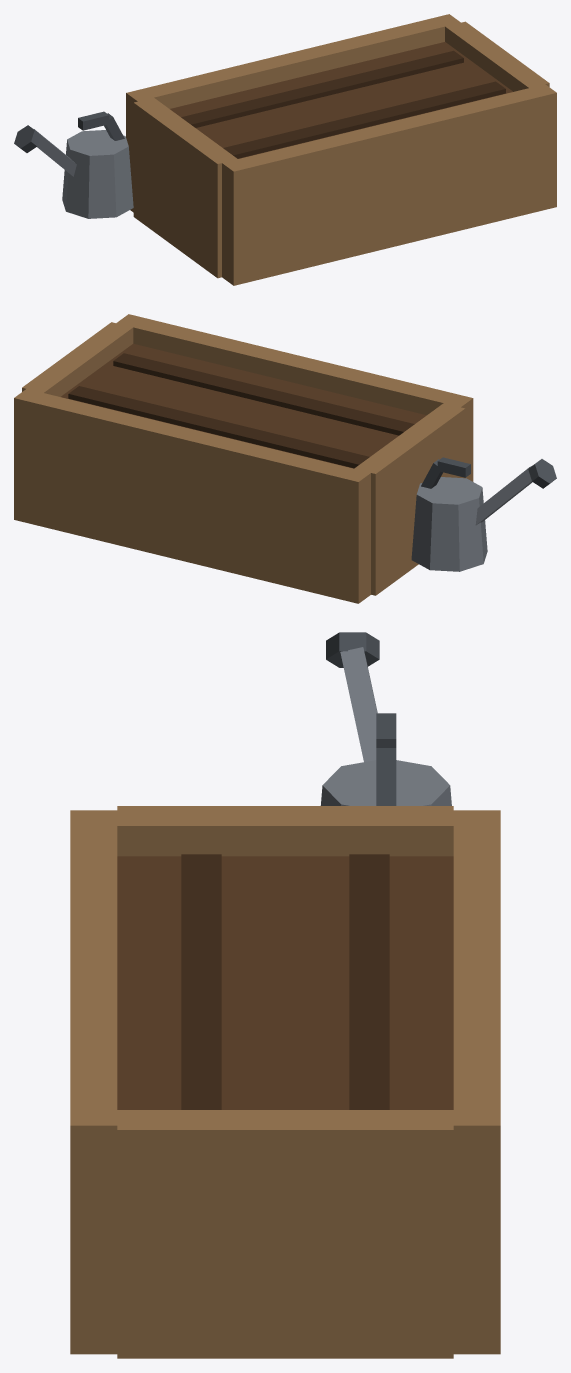
File: fld_seedbed.glb
3 views of the same model, one above another, from view 1: azimuth 30°, elevation 25°; view 2: azimuth 150°, elevation 25°; view 3: azimuth 270°, elevation 25° (orthographic). The views are drawn at different scales.
Visible parts, largest first — view 1: fld_seedbed; view 2: fld_seedbed; view 3: fld_seedbed.
Part boxes in pixels (<box>): fld_seedbed: <box>14,14,556,285</box>; fld_seedbed: <box>14,314,556,603</box>; fld_seedbed: <box>70,632,500,1358</box>.
Bounding box in the file's own units: 0.3251 × 0.0912 × 0.128.
